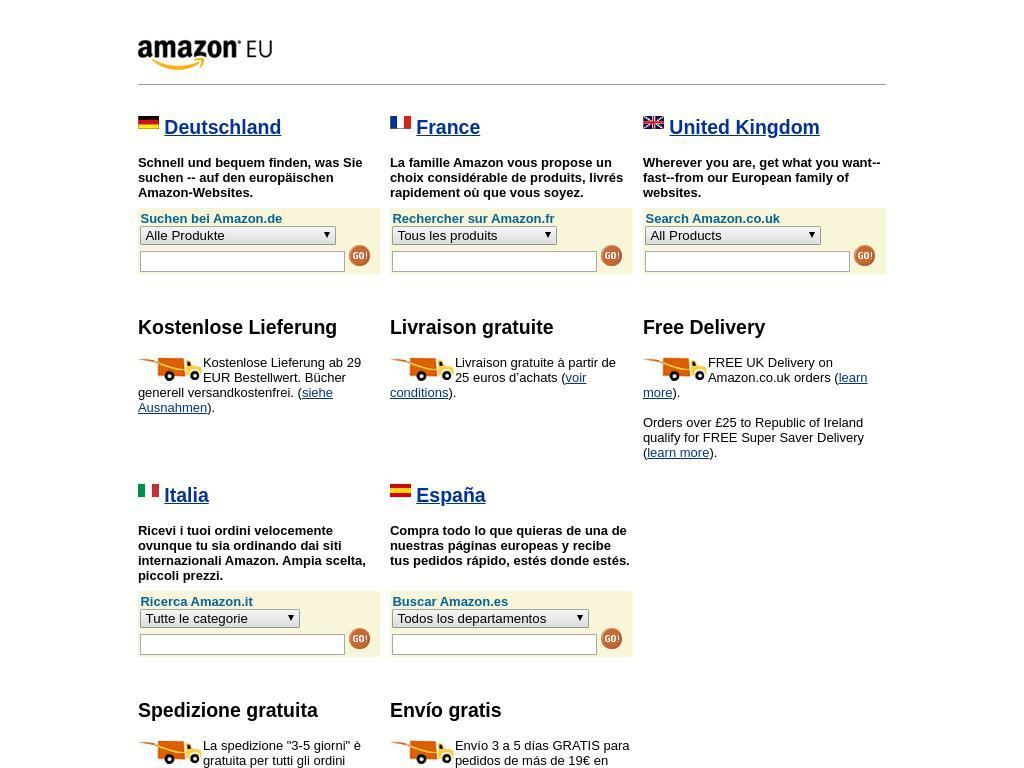button: (158, 116, 159, 117), (410, 116, 411, 117), (663, 116, 664, 117), (202, 355, 203, 356), (454, 355, 455, 356), (707, 355, 708, 356), (158, 484, 159, 485), (410, 484, 411, 485), (202, 738, 203, 739), (454, 738, 455, 739)
field: (140, 250, 346, 272), (392, 250, 598, 272), (645, 250, 851, 272), (140, 633, 346, 655), (392, 633, 598, 655), (392, 608, 590, 628), (140, 225, 337, 245), (645, 225, 822, 245), (392, 225, 558, 245), (140, 608, 301, 628), (349, 244, 371, 266), (601, 244, 623, 266), (854, 244, 876, 266), (349, 627, 371, 649), (601, 627, 623, 649)
heading: (389, 316, 634, 340), (642, 316, 887, 340), (389, 699, 634, 723), (137, 316, 381, 340), (137, 699, 381, 723), (669, 116, 821, 139), (164, 116, 282, 139), (416, 484, 487, 507), (416, 116, 481, 139), (164, 484, 210, 507), (137, 116, 159, 130), (389, 116, 411, 130), (642, 116, 664, 130), (137, 484, 159, 498), (389, 484, 411, 498)
image: (137, 39, 272, 71), (137, 355, 203, 383), (389, 355, 455, 383), (642, 355, 708, 383), (137, 738, 203, 766), (389, 738, 455, 766)
link: (642, 370, 867, 401), (389, 370, 587, 401), (137, 385, 333, 416), (647, 445, 710, 461)
text: (137, 523, 366, 584), (389, 523, 630, 569), (642, 155, 881, 201), (389, 155, 623, 201), (137, 155, 363, 201), (137, 355, 361, 401), (642, 415, 864, 461), (389, 738, 630, 768), (137, 738, 373, 768), (454, 355, 616, 386), (707, 355, 839, 386), (392, 210, 556, 226), (140, 210, 283, 226), (645, 210, 781, 226), (392, 593, 509, 609), (140, 593, 254, 609), (207, 400, 216, 416), (448, 385, 457, 401), (709, 445, 718, 461), (672, 385, 680, 401)
